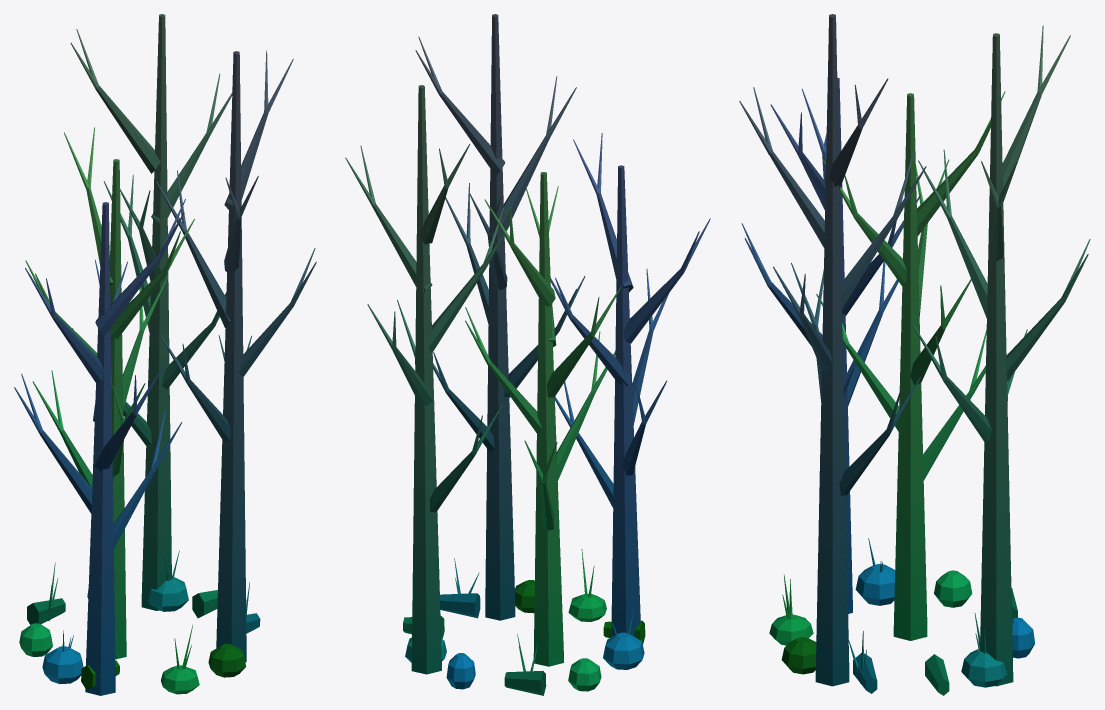
File: charred_01.glb
The picture shows the model from 3 angles, left to right: view 1: azimuth 30°, elevation 25°; view 2: azimuth 150°, elevation 25°; view 3: azimuth 270°, elevation 25°; orthographic projection. The views are drawn at different scales.
Visible parts, largest first — view 1: charred_01.002; view 2: charred_01.002; view 3: charred_01.002.
Part boxes in pixels (x1=…): charred_01.002: x1=14, y1=14, x2=316, y2=695; charred_01.002: x1=345, y1=14, x2=710, y2=695; charred_01.002: x1=739, y1=14, x2=1090, y2=695.
Bounding box in the file's own units: 0.94 × 1.95 × 0.9341.
